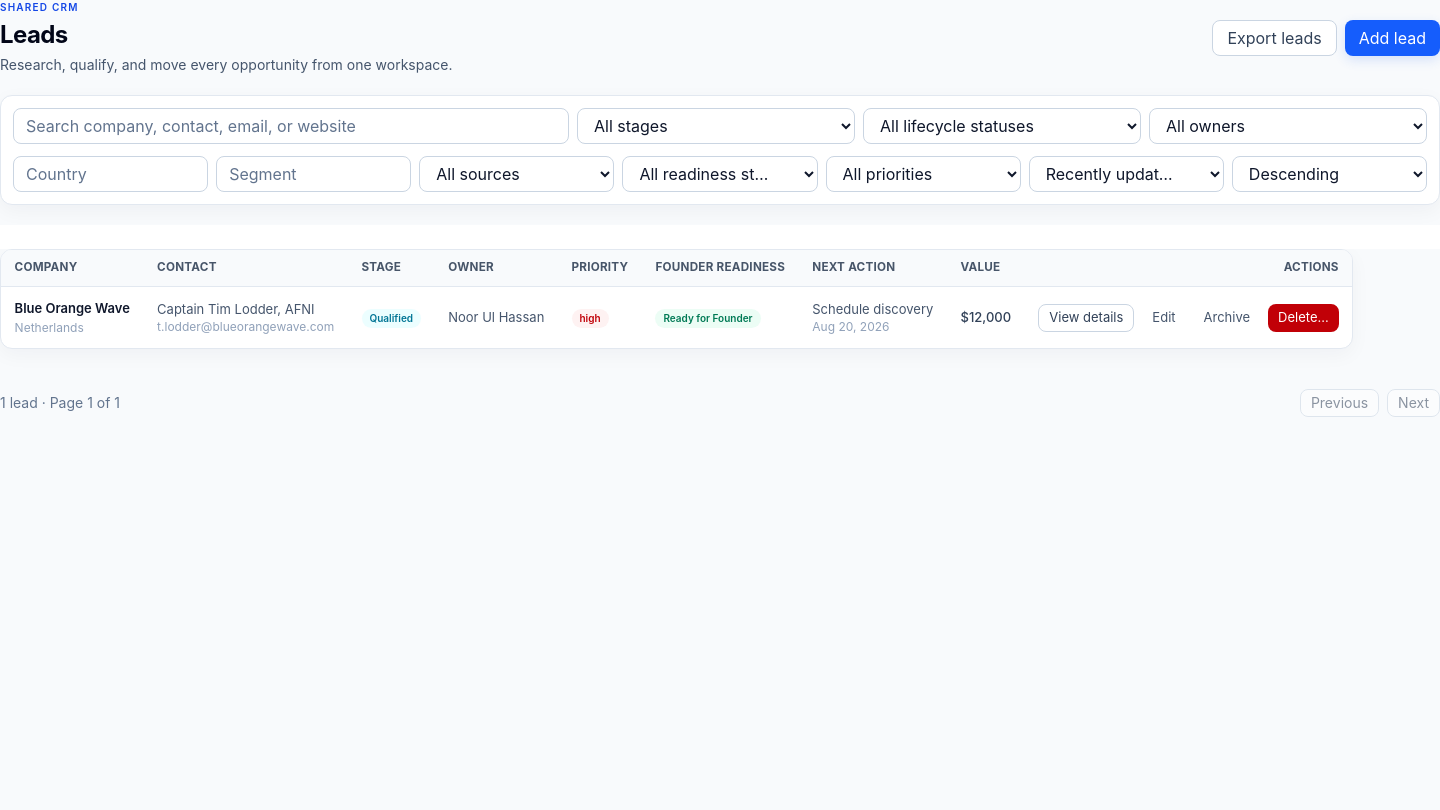
Test case: Leads page export and row actions › shows an error instead of downloading an empty export
The image size is (1440, 810).
Step 1. Click the button "Export leads" → (1275, 38), box [1212,20,1337,56]
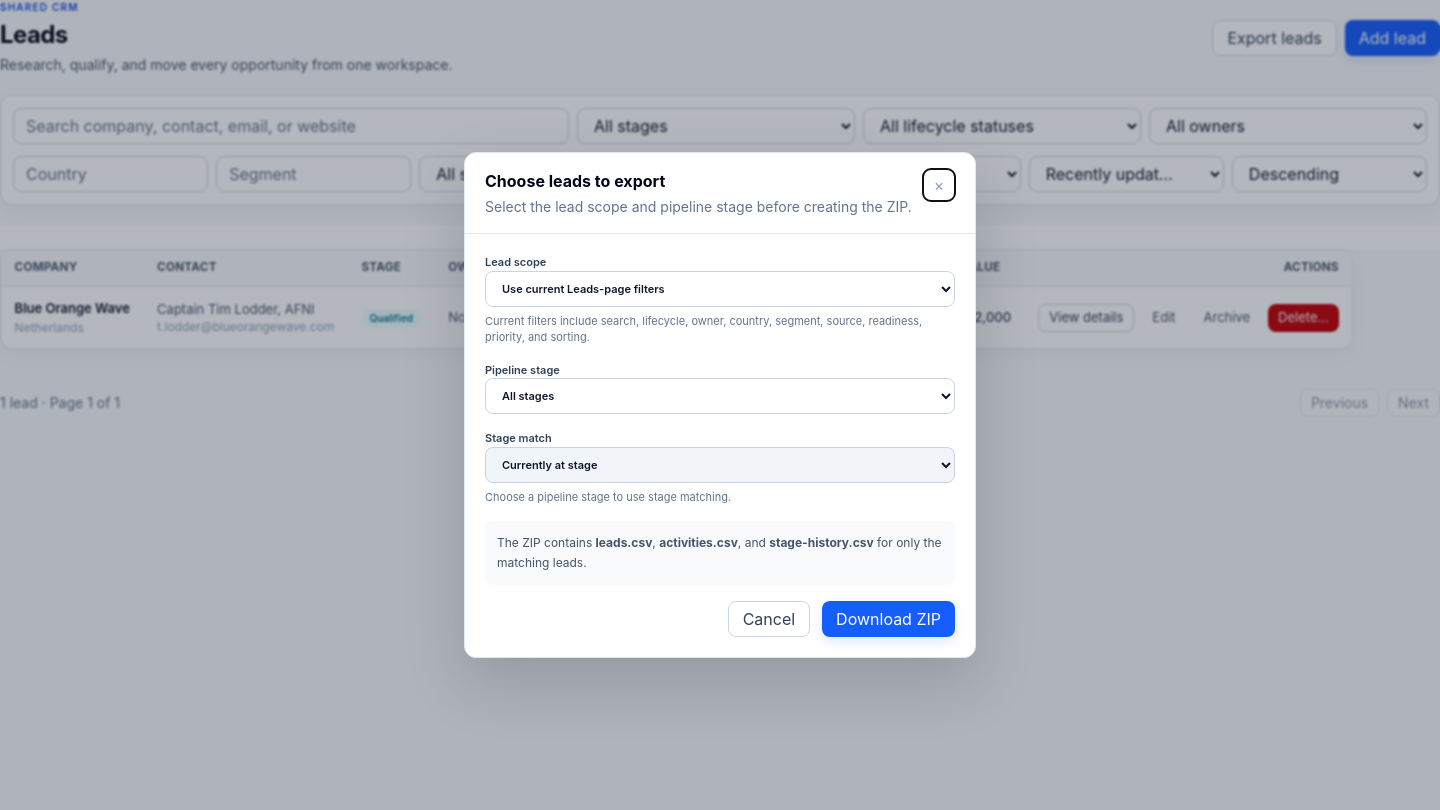
Step 2. Select "Qualified" in the dropdown labelled "Pipeline stage" → (720, 396), box [485,378,955,414]
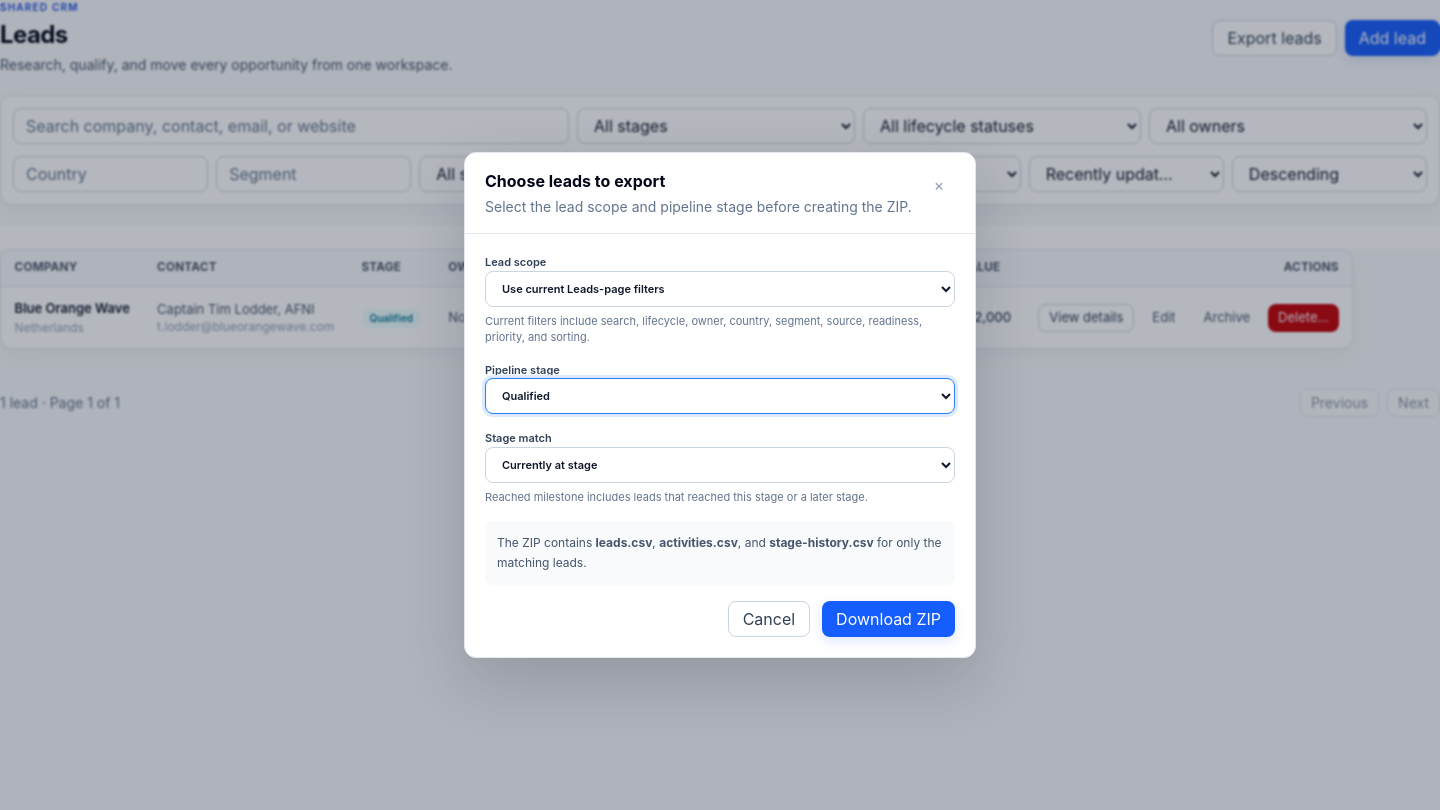
Step 3. Click the button "Download ZIP" → (889, 619), box [822,601,955,637]
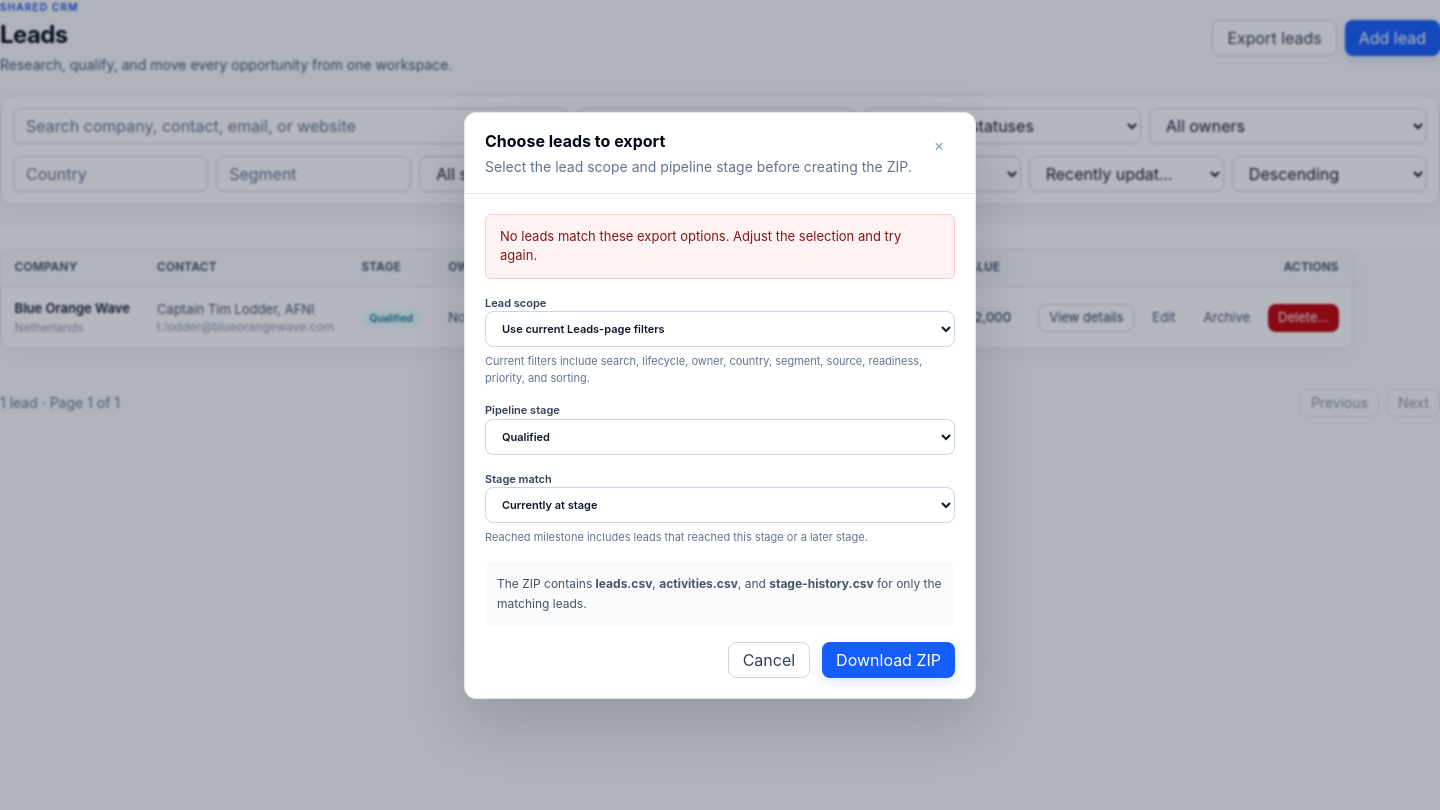
Expected: the text "No leads match these export options" is shown, [500,228,901,263]
